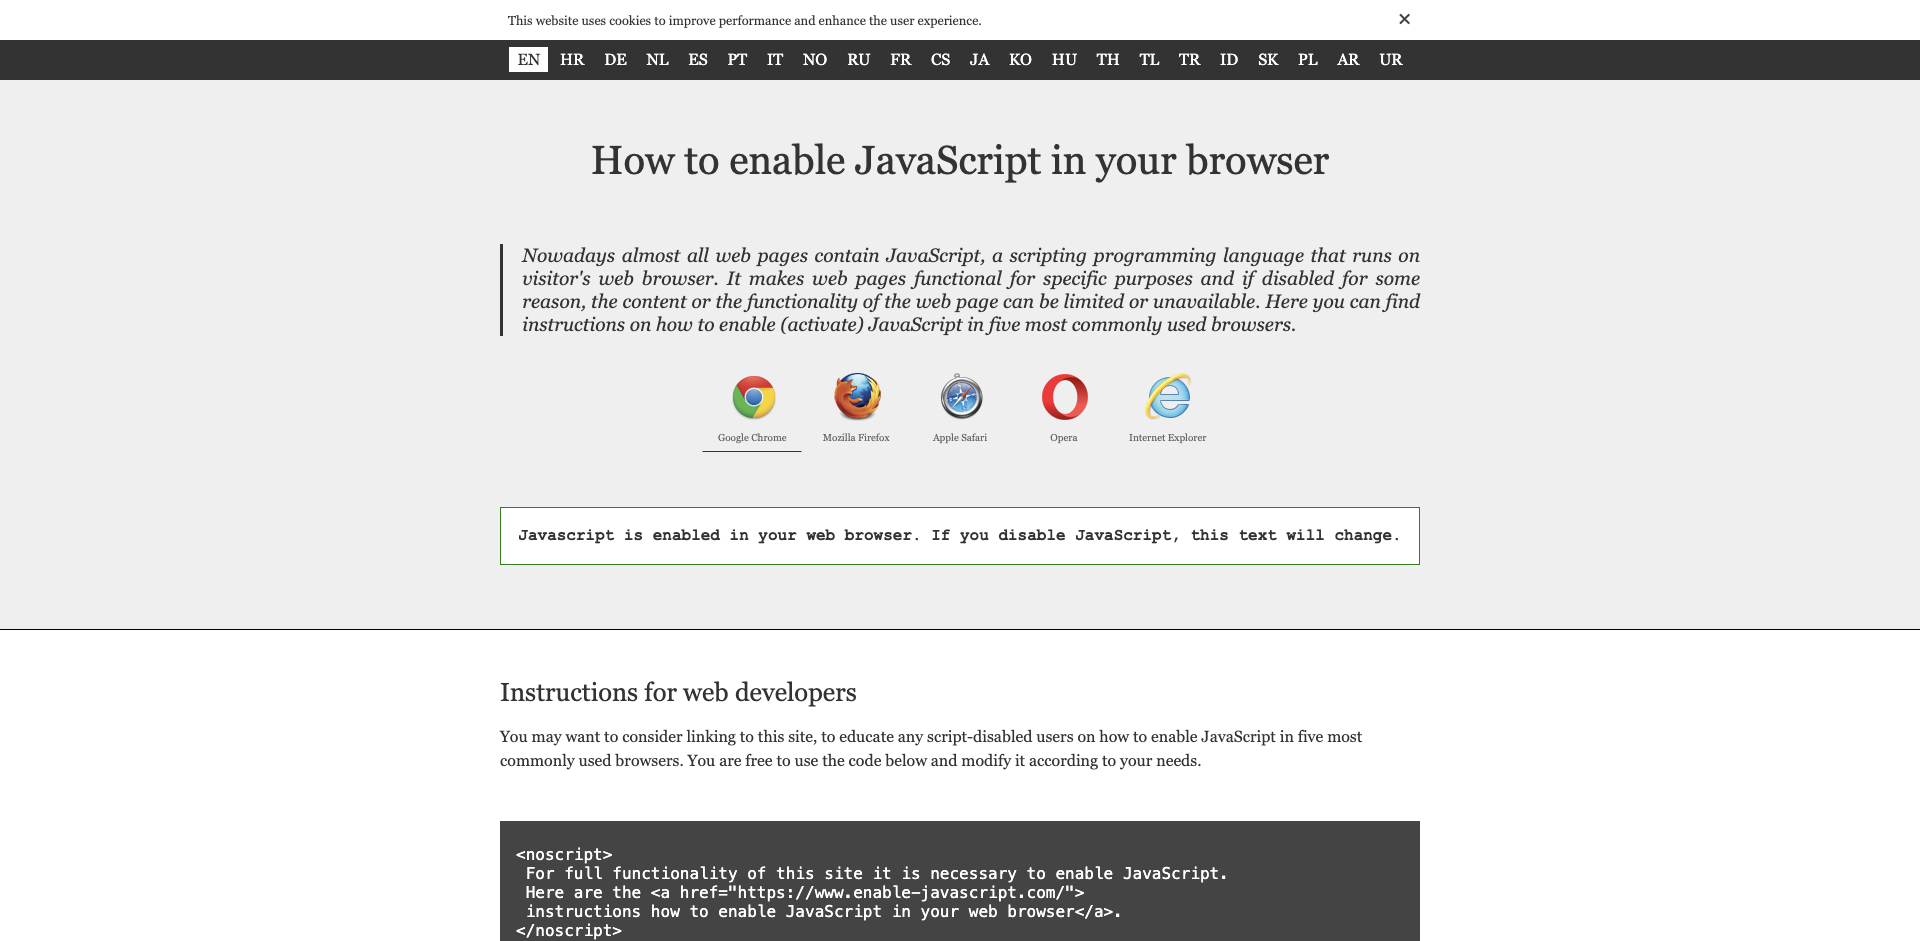link: (806, 352, 906, 452), (910, 352, 1010, 452), (1014, 352, 1114, 452), (703, 352, 802, 452), (1118, 352, 1217, 452), (1043, 47, 1085, 72), (552, 47, 593, 72), (795, 47, 835, 72), (509, 47, 549, 72), (839, 47, 878, 72), (1000, 47, 1040, 72), (1089, 47, 1128, 72), (1371, 47, 1411, 72), (596, 47, 634, 72), (638, 47, 676, 72), (1171, 47, 1209, 72), (1330, 47, 1368, 72), (883, 47, 920, 72), (681, 47, 716, 72), (720, 47, 756, 72), (923, 47, 959, 72), (1131, 47, 1167, 72), (1250, 47, 1286, 72), (1291, 47, 1326, 72), (962, 47, 997, 72), (1212, 47, 1247, 72), (759, 47, 791, 72), (1397, 9, 1412, 29)
